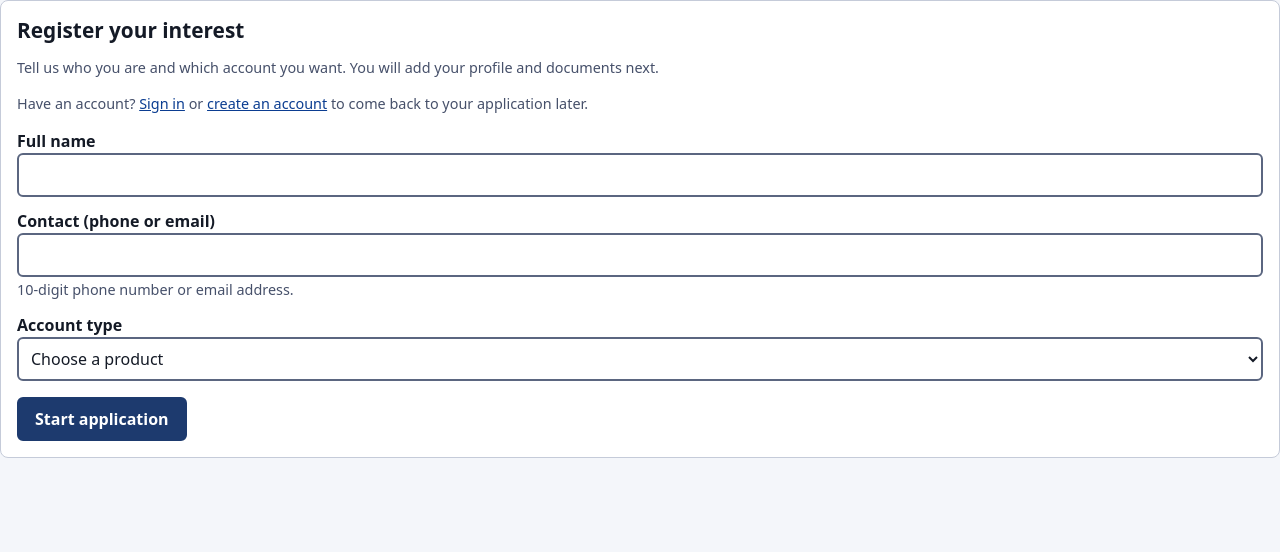
Scenario: LeadFormPage › AC-01.7: shows field errors and creates nothing when the form is invalid
The width and height of the screenshot is (1280, 552).
What coordinates should you click on to do the following:
click the button "Start application"
I would click on:
 (102, 419)
Its box is [17, 397, 187, 441].
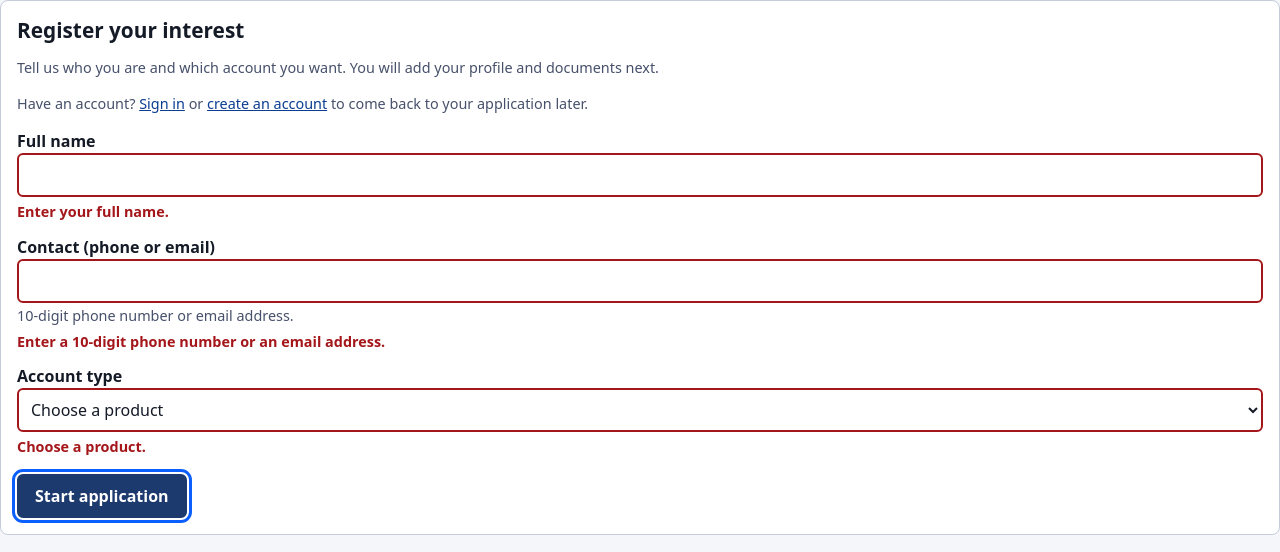
Expected: the text "Choose a product." is shown, [17, 437, 146, 456]
